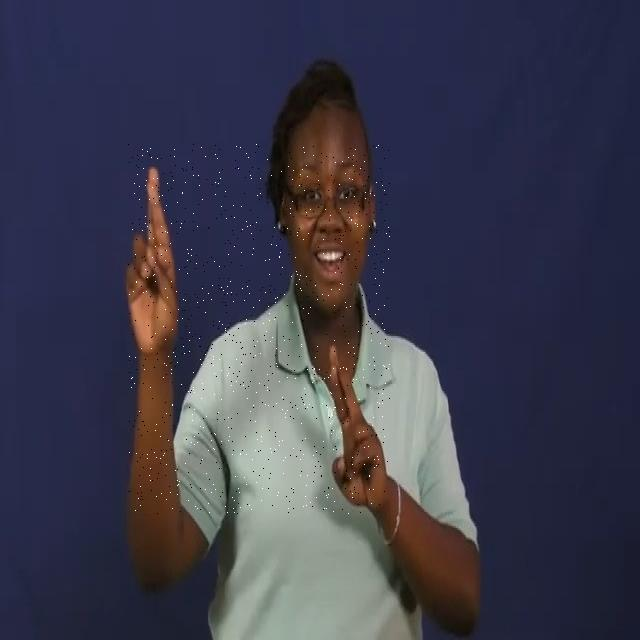ready: (128, 144, 390, 514)
